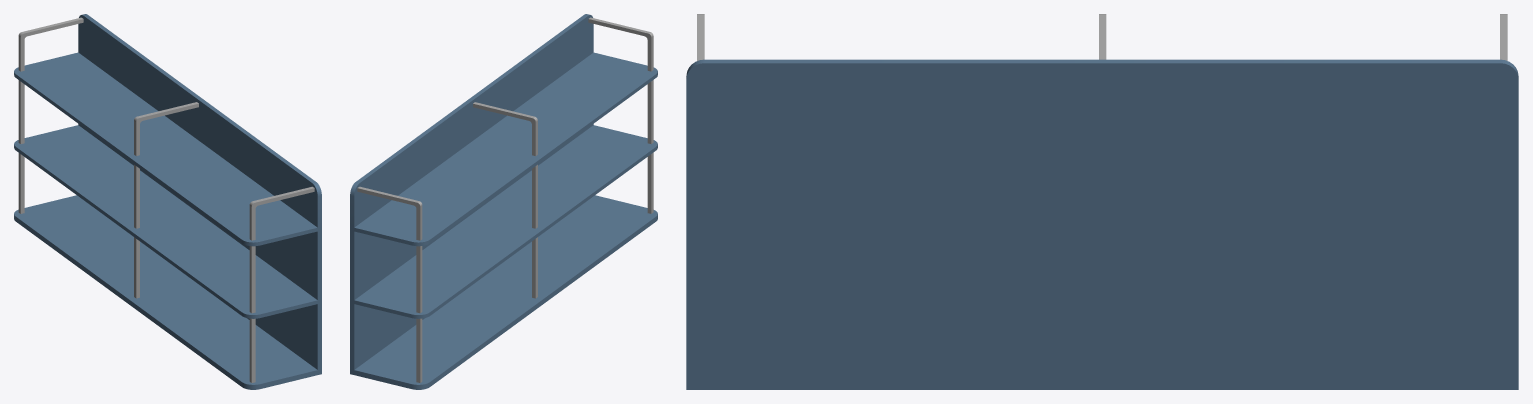
Rendered from shelves.glb.
The picture shows the model from 3 angles, left to right: view 1: azimuth 30°, elevation 25°; view 2: azimuth 150°, elevation 25°; view 3: azimuth 270°, elevation 25°; orthographic projection. The views are drawn at different scales.
Parts seen in each view (by area): view 1: Shelves; view 2: Shelves; view 3: Shelves.
Part boxes in pixels (box(x1,y1,x2,y2)): Shelves: box(14, 14, 321, 389); Shelves: box(350, 14, 657, 389); Shelves: box(686, 14, 1518, 389).
Bounding box in the file's own units: 1.06 × 2.6 × 6.
